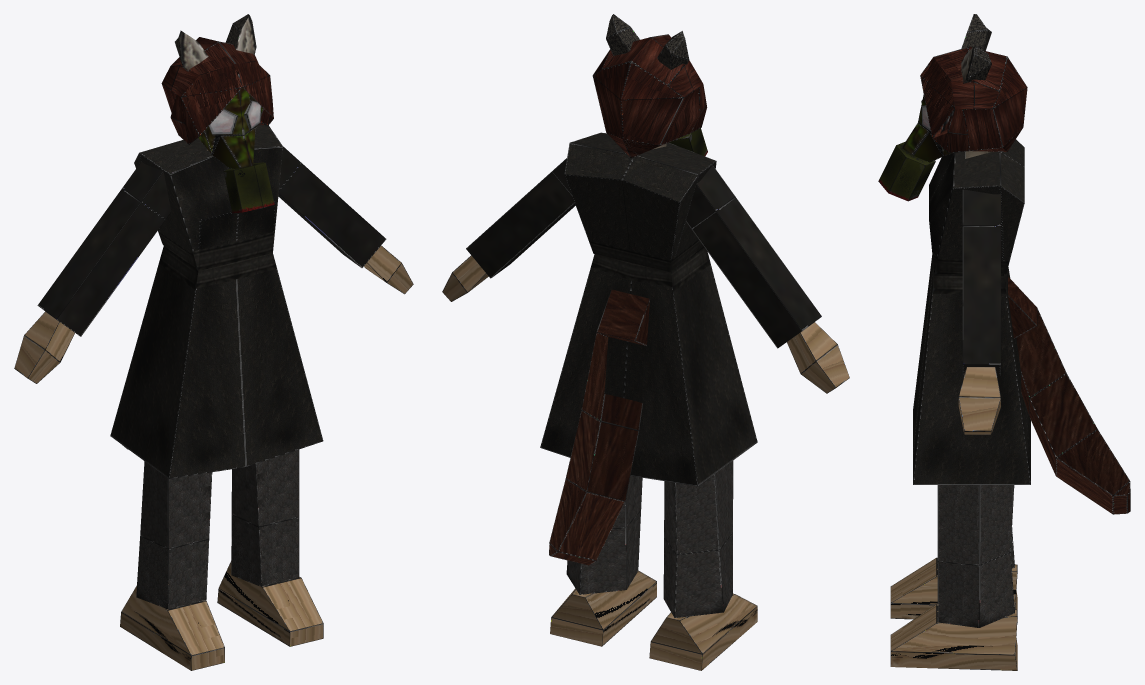
Rendered from lunaNORIG.fbx.
3 views of the same model, side by side, from view 1: azimuth 30°, elevation 25°; view 2: azimuth 150°, elevation 25°; view 3: azimuth 270°, elevation 25° (orthographic). The views are drawn at different scales.
Parts seen in each view (by area): view 1: Torso; view 2: Torso; view 3: Torso.
Boxes of the visible parts, box(x1,y1,x2,y2) form: Torso: box(14, 14, 413, 670); Torso: box(442, 14, 849, 670); Torso: box(878, 14, 1130, 670).
Bounding box in the file's own units: 143 × 213 × 80.66.
Materials: 1 (1 with a texture image).
